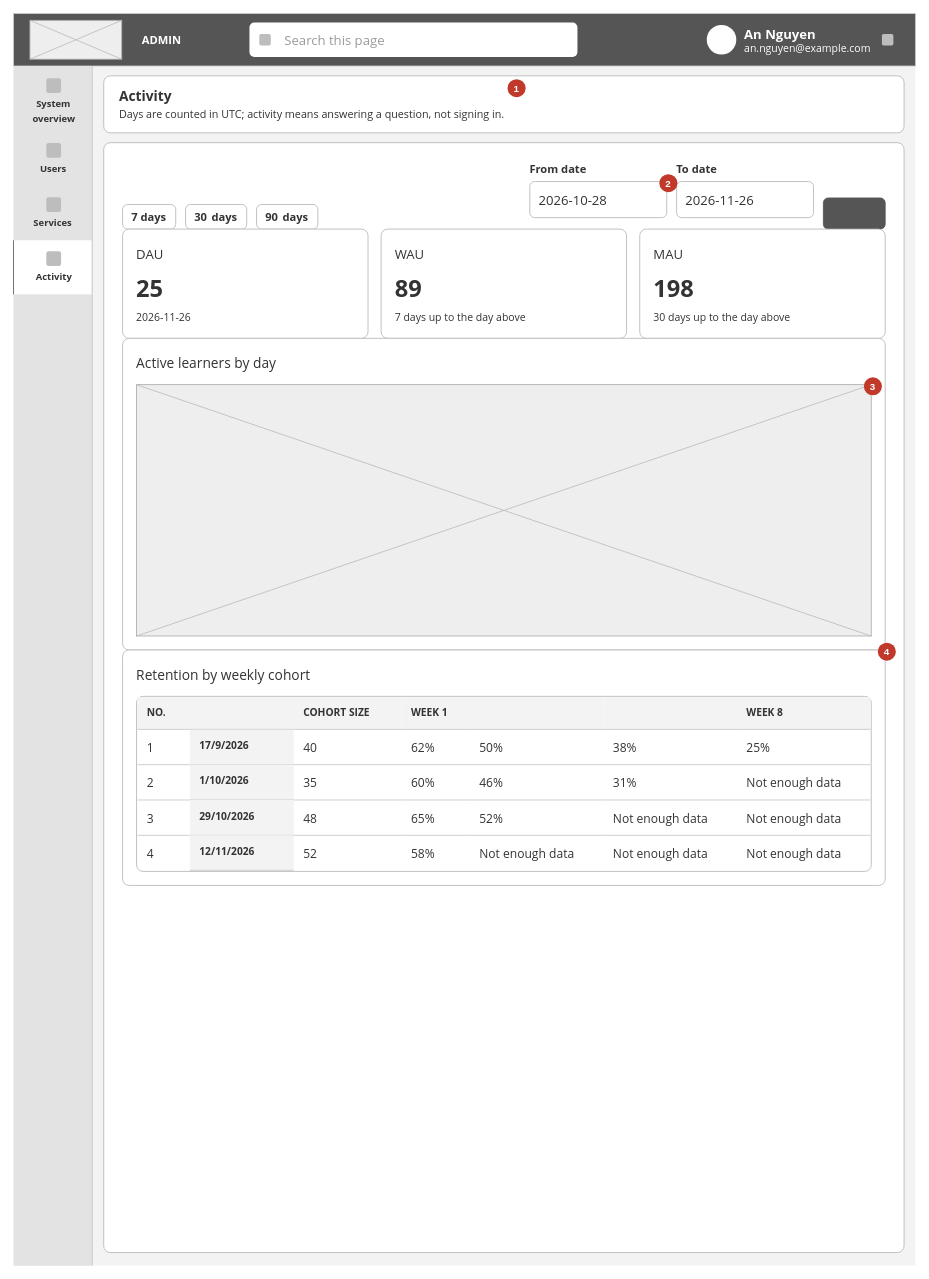
Image size: 929x1279. Some labels were removed from this diagram. Here are the shapes that lost their labels. From the top down, the centre of each, then its label:
At [721,39]: "AN".
At [854,213]: "Apply".
At [241,713]: "WEEK START".
At [536,713]: "WEEK 2".
At [669,713]: "WEEK 4".
